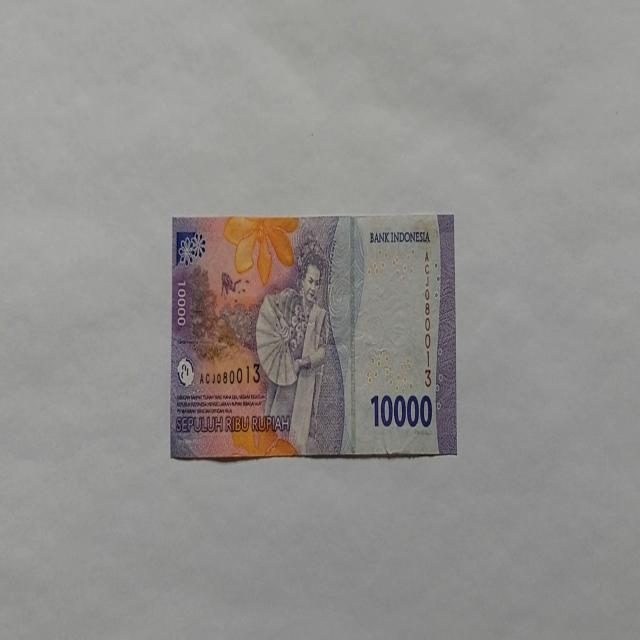sepuluh ribu rupiah: (170, 212, 456, 460)
